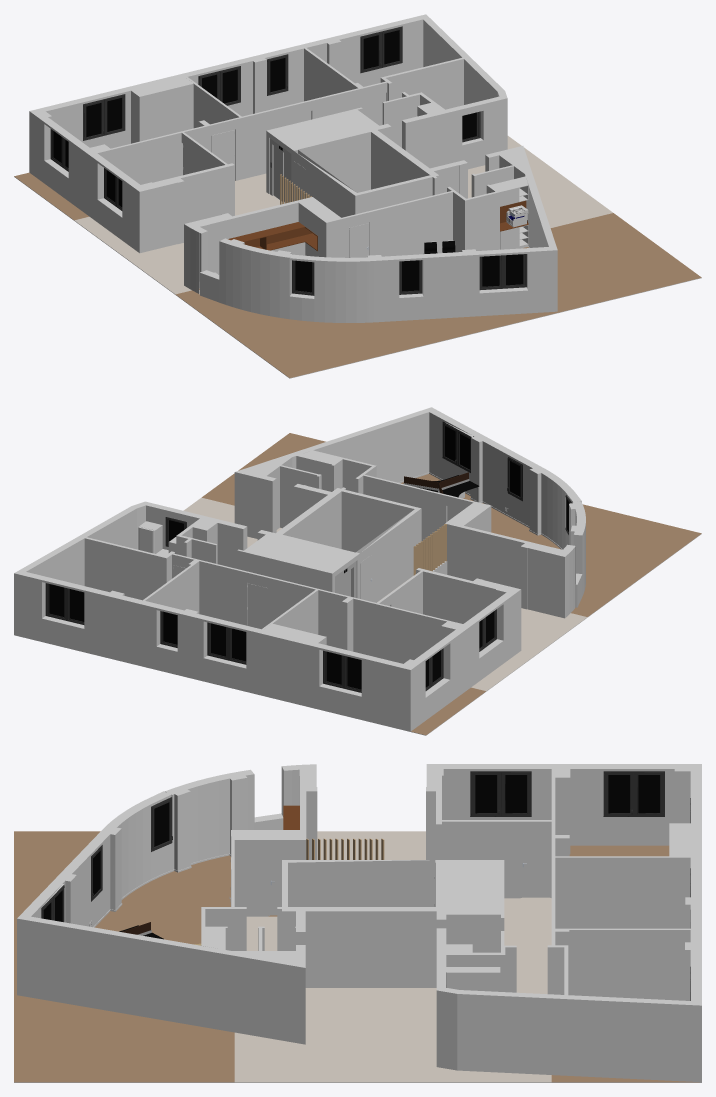
Rendered from les_sources.glb.
The picture shows the model from 3 angles, top to bottom: view 1: azimuth 30°, elevation 25°; view 2: azimuth 150°, elevation 25°; view 3: azimuth 270°, elevation 25°; orthographic projection. The views are drawn at different scales.
Parts seen in each view (by area): view 1: LesSources; view 2: LesSources; view 3: LesSources.
Part boxes in pixels (x1,y1,x2,y2): LesSources: (14, 14, 701, 378); LesSources: (14, 407, 701, 735); LesSources: (14, 764, 701, 1082).
Size of the model in its own units: 1754 by 374 by 2033.
